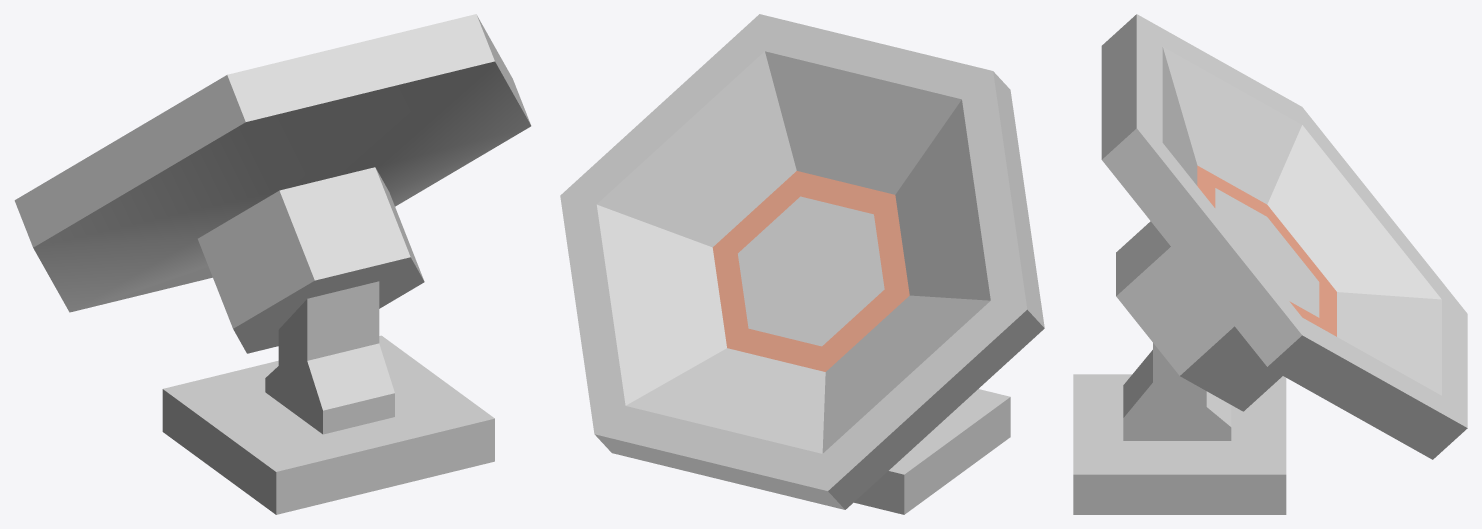
Rendered from satelliteDish.glb.
The picture shows the model from 3 angles, left to right: view 1: azimuth 30°, elevation 25°; view 2: azimuth 150°, elevation 25°; view 3: azimuth 270°, elevation 25°; orthographic projection. The views are drawn at different scales.
Visible parts, largest first — view 1: satelliteDish; view 2: satelliteDish; view 3: satelliteDish.
Boxes of the visible parts, box(x1,y1,x2,y2) form: satelliteDish: box(14, 14, 531, 514); satelliteDish: box(560, 14, 1044, 514); satelliteDish: box(1073, 14, 1467, 514).
Bounding box in the file's own units: 8.58 × 6.89 × 6.26.
